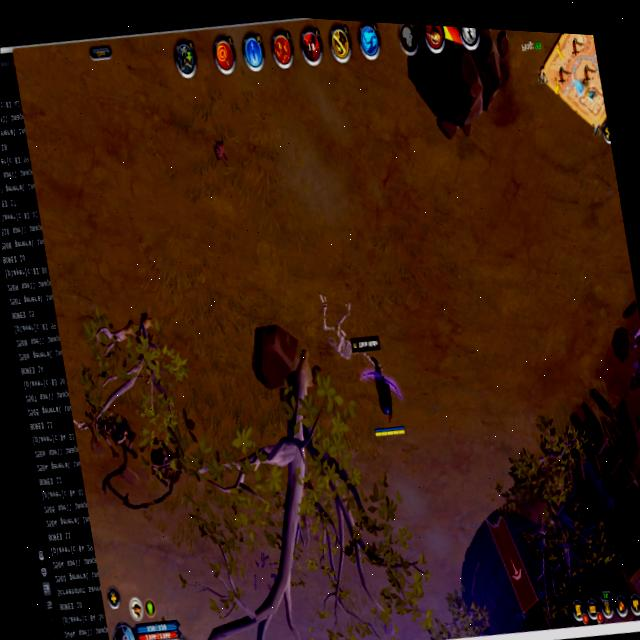mob: (619, 309, 640, 396)
red: (362, 358, 409, 444)
